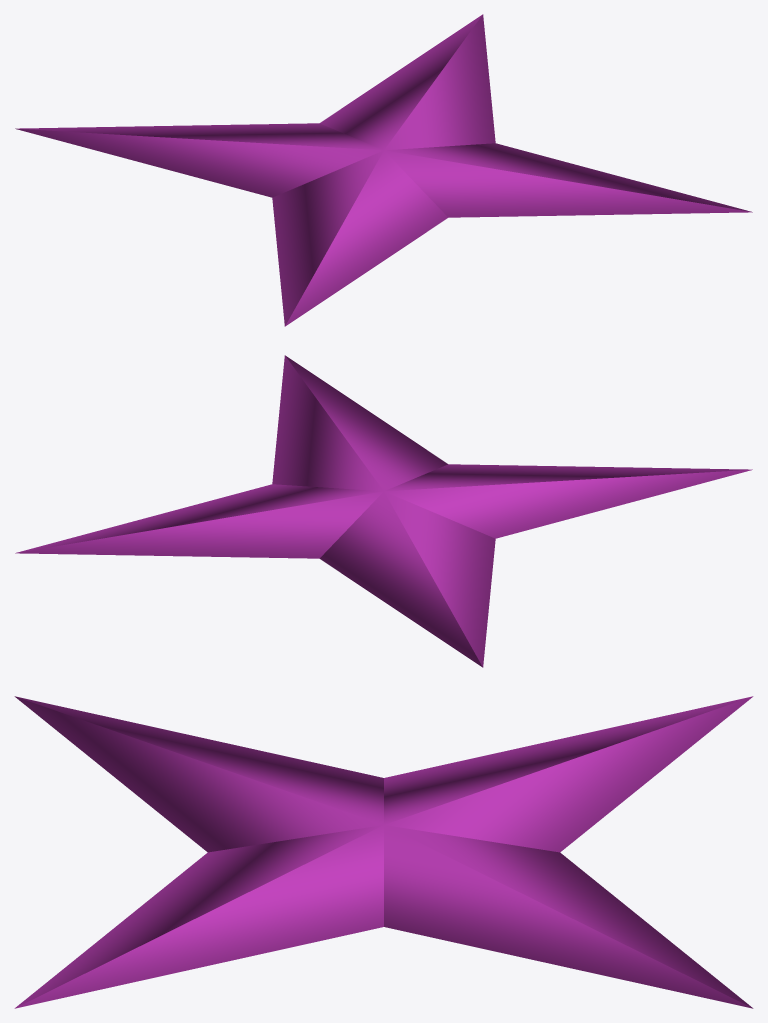
The model's file is 大招投掷物拖尾2卡牌.FBX.
The picture shows the model from 3 angles, top to bottom: view 1: azimuth 30°, elevation 25°; view 2: azimuth 150°, elevation 25°; view 3: azimuth 270°, elevation 25°; orthographic projection. The views are drawn at different scales.
Parts seen in each view (by area): view 1: Star001; view 2: Star001; view 3: Star001.
Part boxes in pixels (<box>): Star001: <box>15,14,752,326</box>; Star001: <box>15,355,752,667</box>; Star001: <box>14,696,753,1008</box>.
Bounding box in the file's own units: 69.97 × 5.74 × 69.97.
